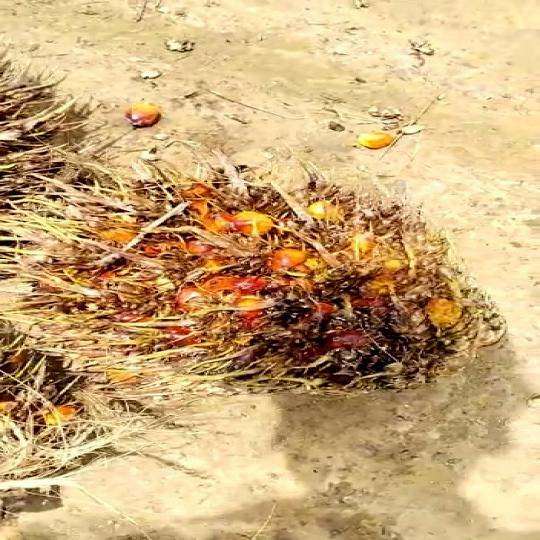terlalu masak: (0, 147, 514, 442)
